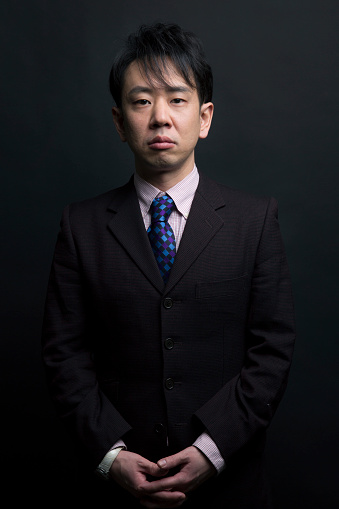em pe: (21, 15, 288, 509)
